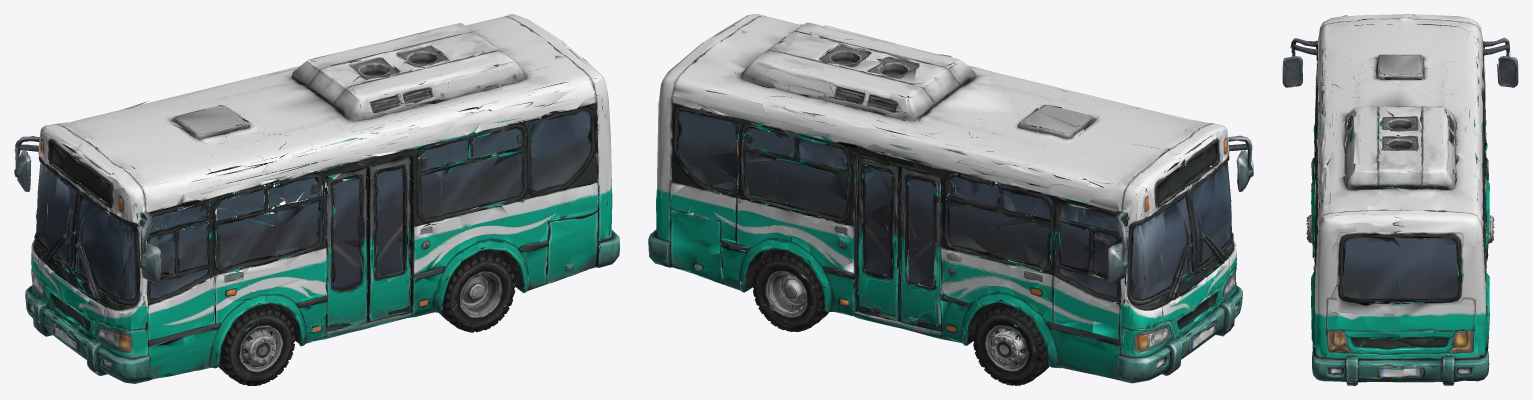
File: CityBus.fbx
The picture shows the model from 3 angles, left to right: view 1: azimuth 30°, elevation 25°; view 2: azimuth 150°, elevation 25°; view 3: azimuth 270°, elevation 25°; orthographic projection. The views are drawn at different scales.
Visible parts, largest first — view 1: CityBus.008; view 2: CityBus.008; view 3: CityBus.008.
Part boxes in pixels (x1,y1,x2,y2): CityBus.008: (14, 14, 619, 385); CityBus.008: (648, 14, 1253, 385); CityBus.008: (1282, 14, 1518, 385).
Bounding box in the file's own units: 6.62 × 2.99 × 3.05.
Materials: 1 (1 with a texture image).
